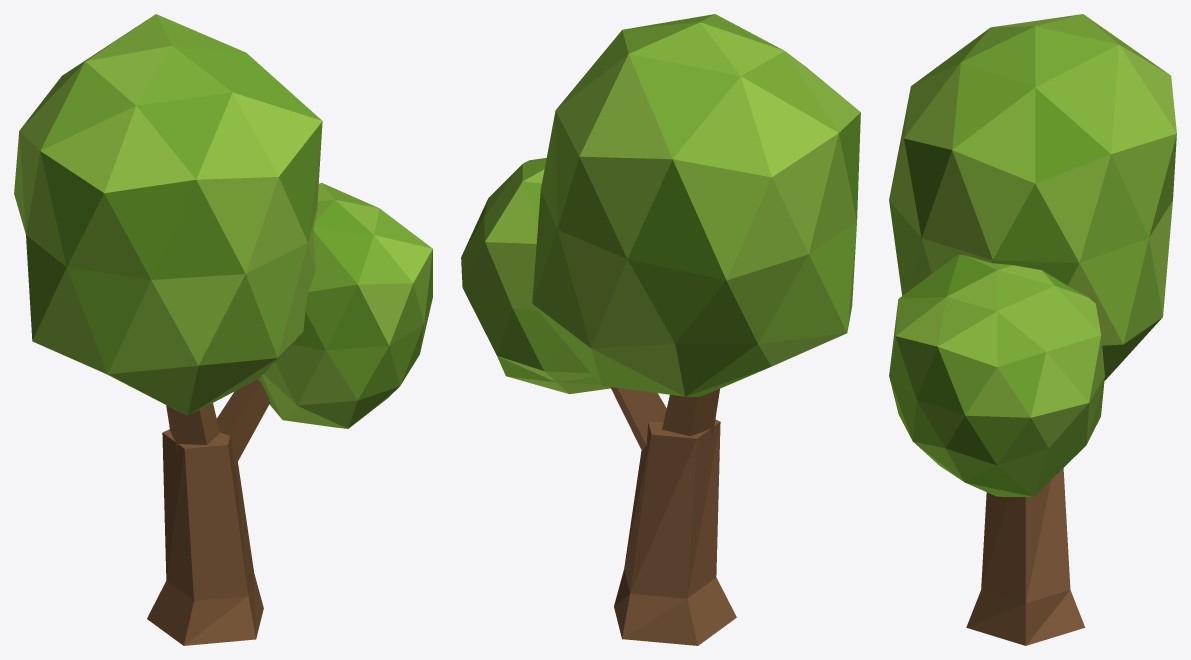
Rendered from Fork_Tree.fbx.
3 renders of one model, left to right at view 1: azimuth 30°, elevation 25°; view 2: azimuth 150°, elevation 25°; view 3: azimuth 270°, elevation 25°, orthographic. The views are drawn at different scales.
Visible parts, largest first — view 1: Asset_Fork_Tree; view 2: Asset_Fork_Tree; view 3: Asset_Fork_Tree.
Part boxes in pixels (left/top/right/bottom): Asset_Fork_Tree: left=14, top=14, right=432, bottom=645; Asset_Fork_Tree: left=461, top=14, right=860, bottom=645; Asset_Fork_Tree: left=889, top=14, right=1176, bottom=645.
Size of the model in its own units: 3.19 by 4.78 by 2.16.
